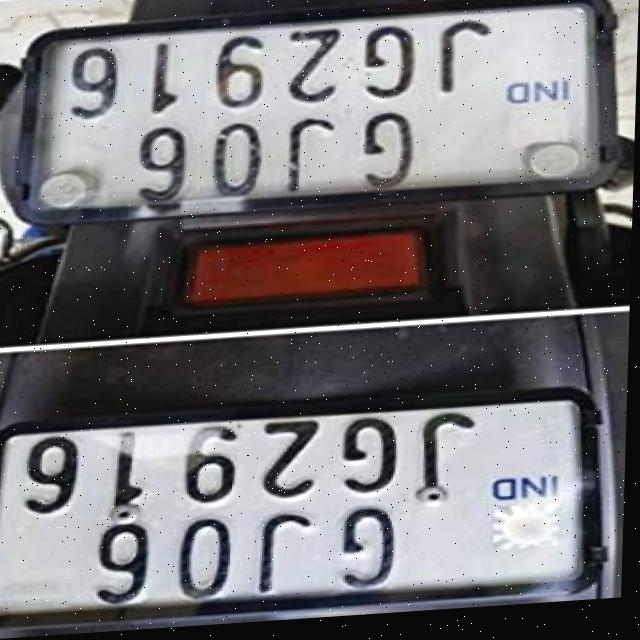plate: (0, 393, 617, 640), (12, 0, 626, 230)
